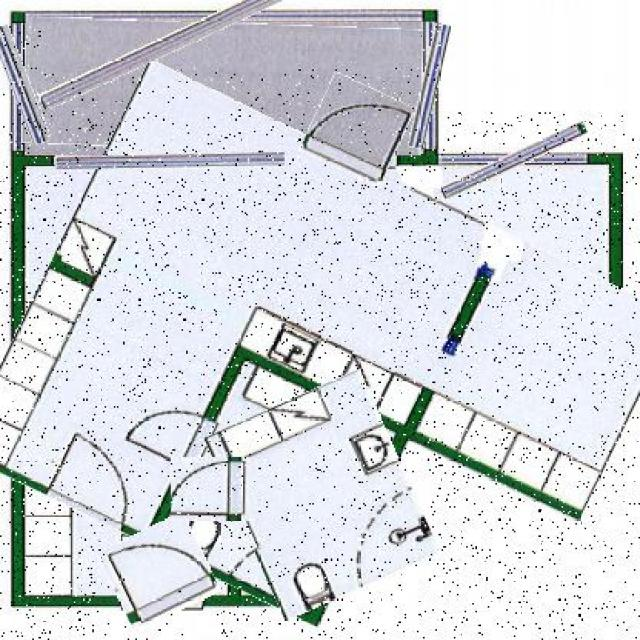door: (104, 520, 214, 623), (304, 78, 408, 180), (171, 459, 251, 523)
window: (31, 0, 415, 68), (438, 137, 591, 181), (2, 23, 40, 146), (415, 23, 443, 149), (56, 154, 284, 168)
zone: (0, 112, 640, 640), (24, 20, 422, 152), (222, 382, 424, 608)
